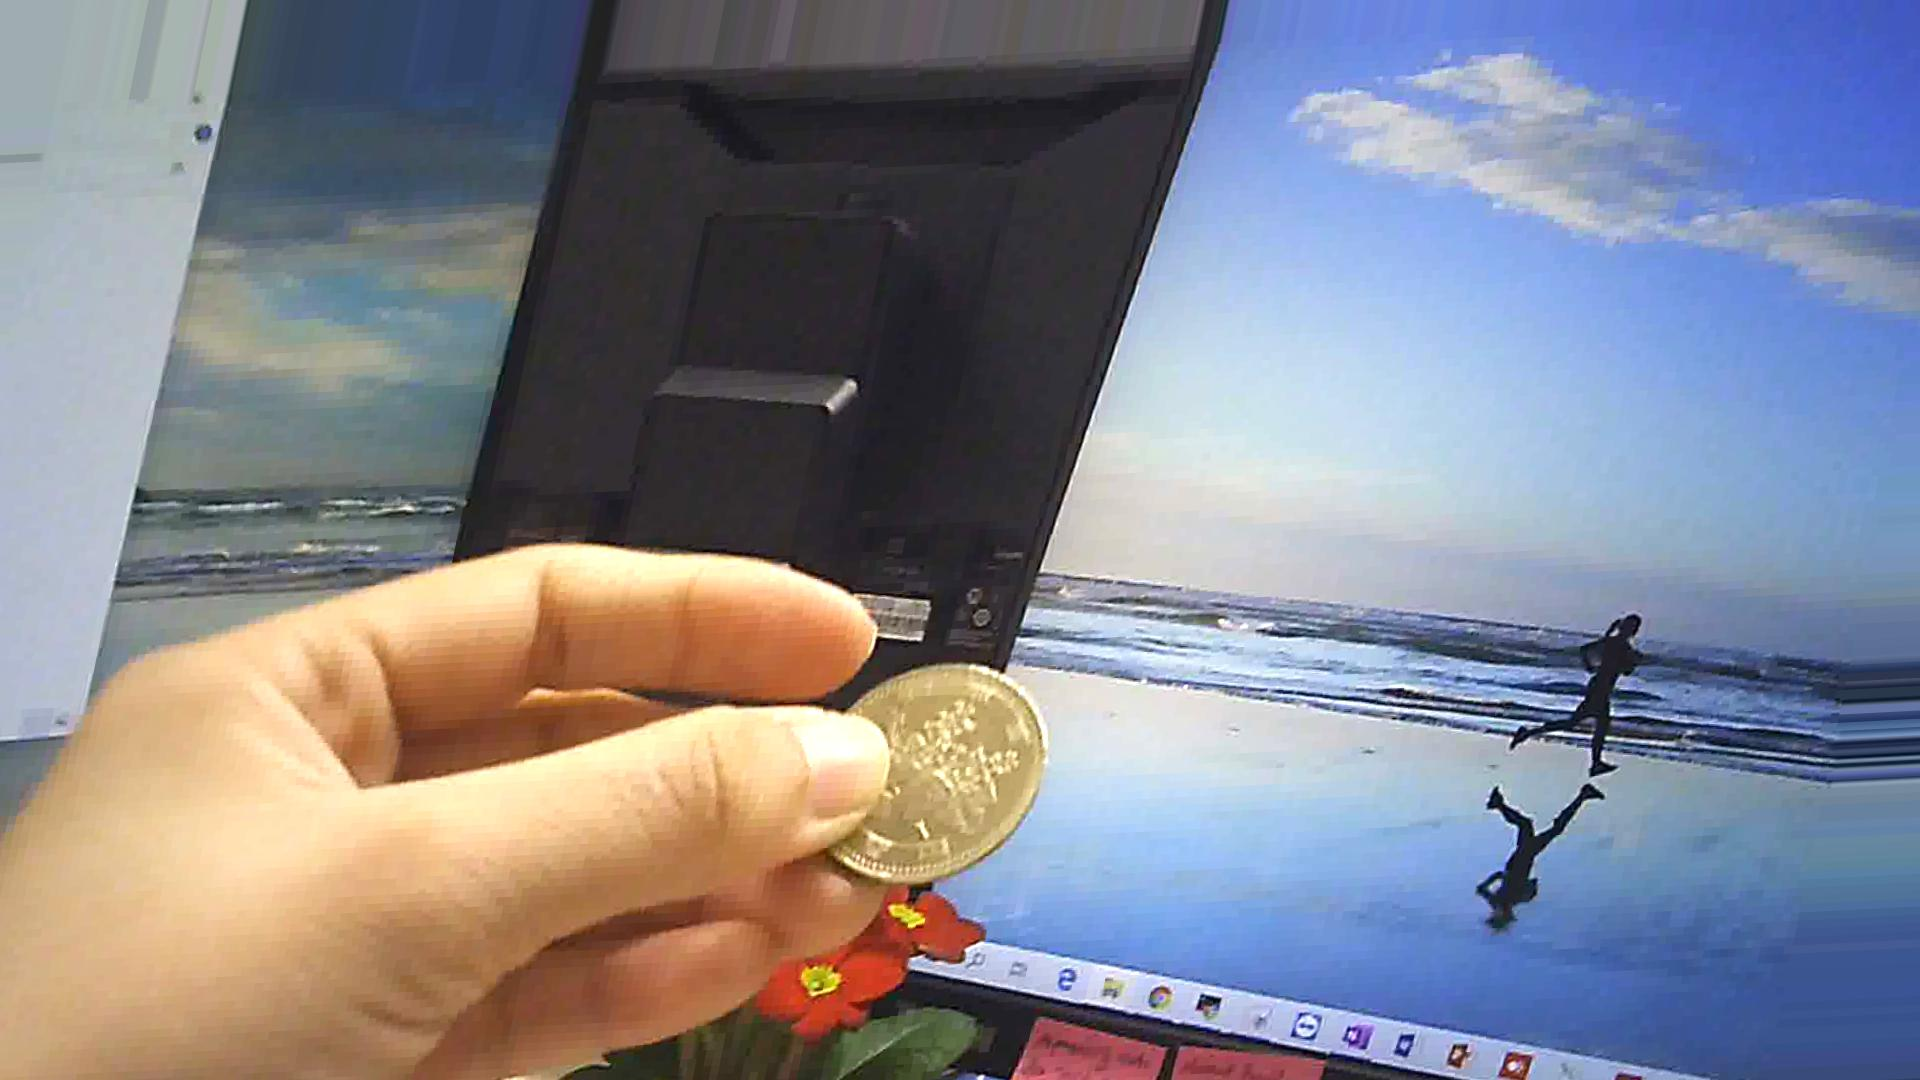500 Yen: (812, 663, 1058, 901)
